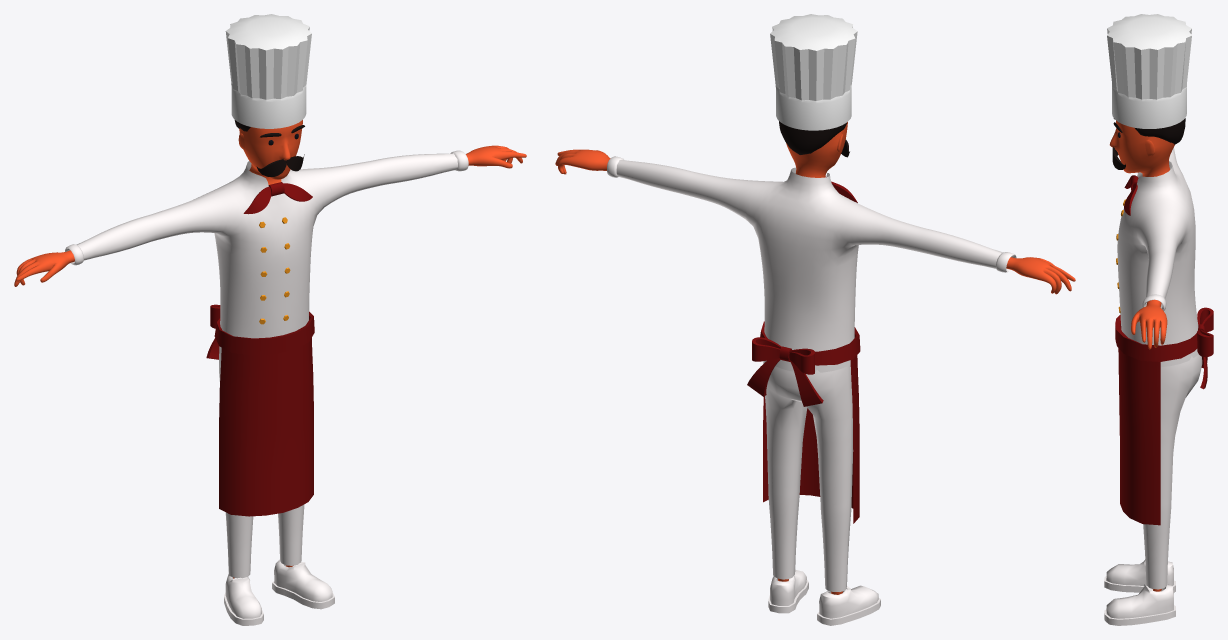
The model's file is halo.FBX.
3 renders of one model, left to right at view 1: azimuth 30°, elevation 25°; view 2: azimuth 150°, elevation 25°; view 3: azimuth 270°, elevation 25°, orthographic.
Visible parts, largest first — view 1: halo; view 2: halo; view 3: halo.
Part boxes in pixels (x1,y1,x2,y2): halo: (14, 14, 526, 625); halo: (555, 14, 1075, 625); halo: (1104, 14, 1213, 625).
Size of what is drawn, in the model's own units: 995 by 184 by 1067.
